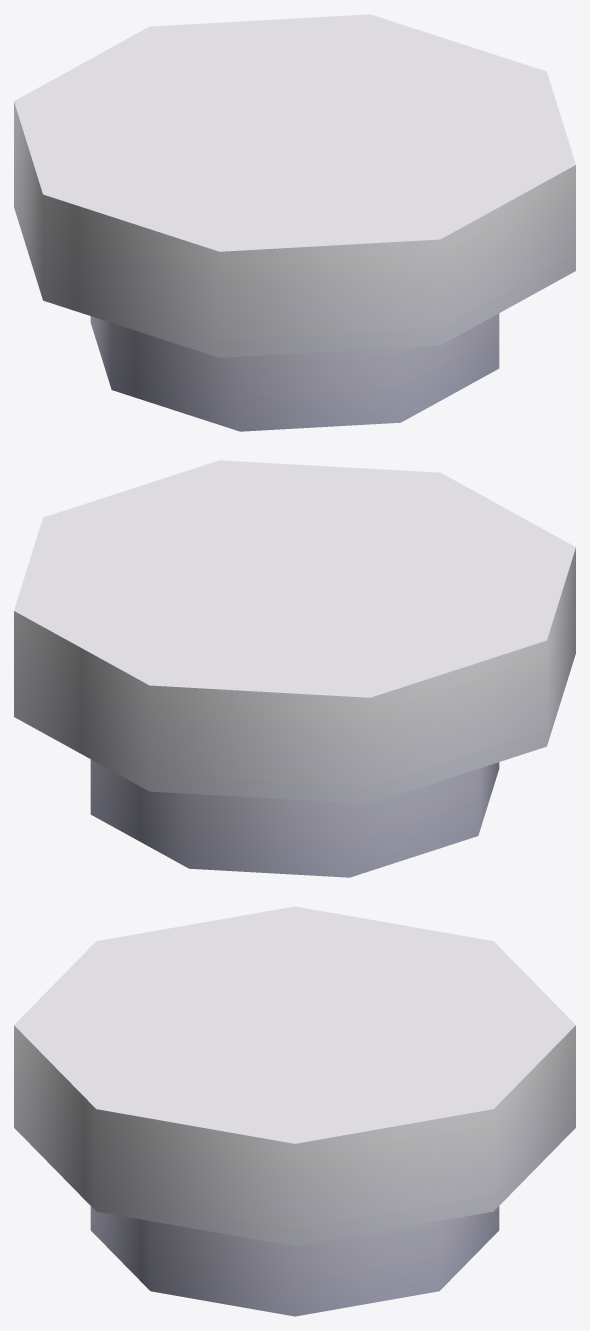
Rendered from kenney-brick-none-lq-plate-1-x-1-round.glb.
3 renders of one model, top to bottom at view 1: azimuth 30°, elevation 25°; view 2: azimuth 150°, elevation 25°; view 3: azimuth 270°, elevation 25°, orthographic. The views are drawn at different scales.
Visible parts, largest first — view 1: none-lq-plate-1x1-round; view 2: none-lq-plate-1x1-round; view 3: none-lq-plate-1x1-round.
Boxes of the visible parts, box(x1,y1,x2,y2) form: none-lq-plate-1x1-round: box(14, 14, 575, 431); none-lq-plate-1x1-round: box(14, 460, 575, 877); none-lq-plate-1x1-round: box(14, 906, 575, 1316).
Size of the model in its own units: 0.0795 by 0.032 by 0.0795.
1 material, 1 textured.
